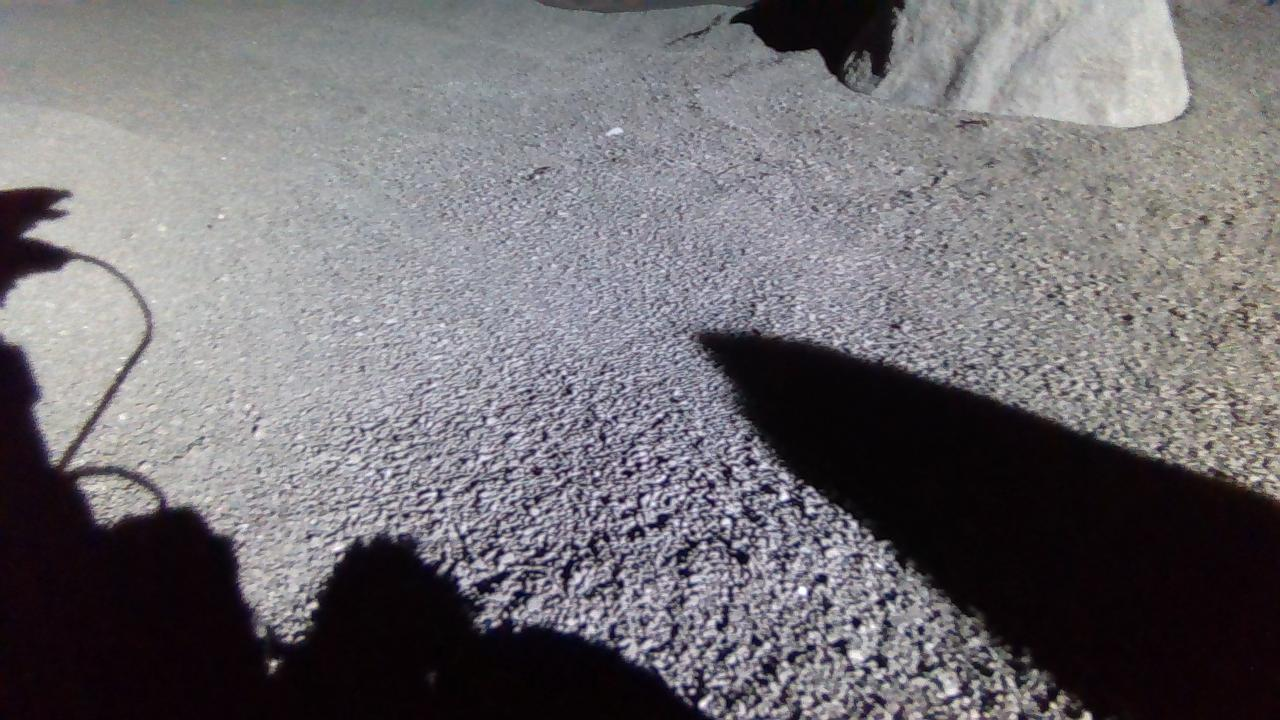rock: (840, 0, 1189, 124)
